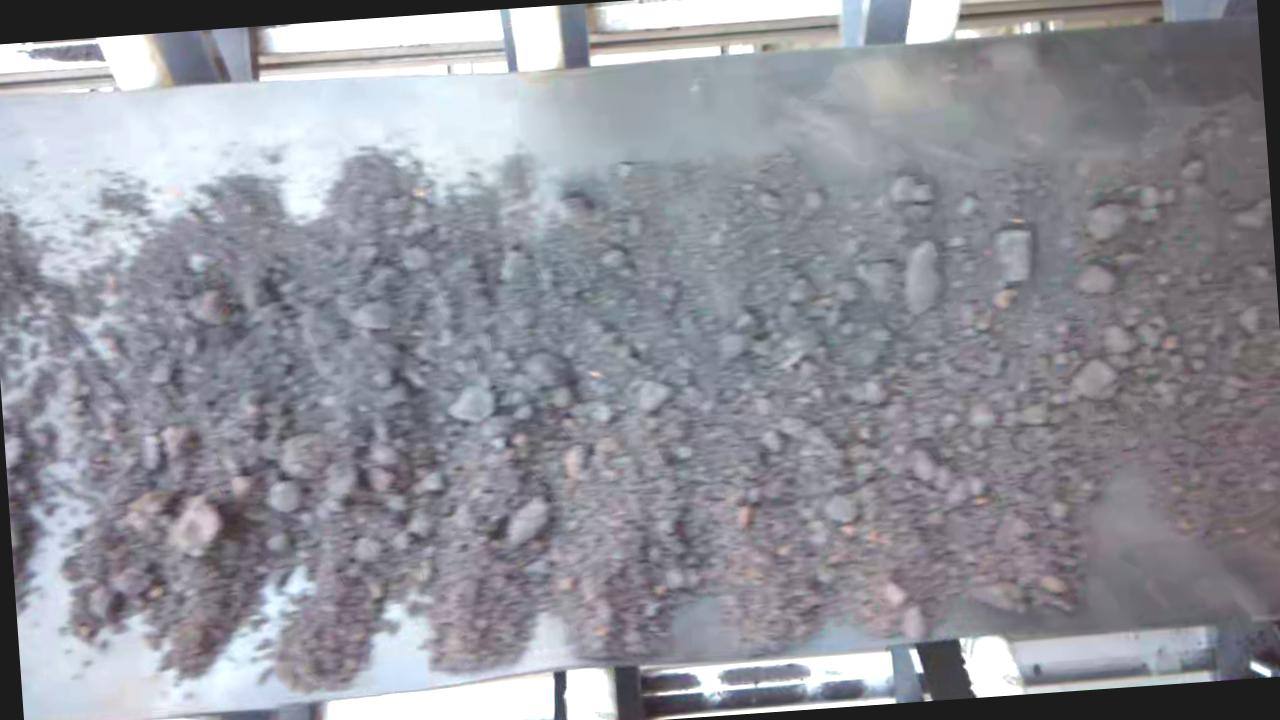conveyor: (0, 27, 1280, 705)
